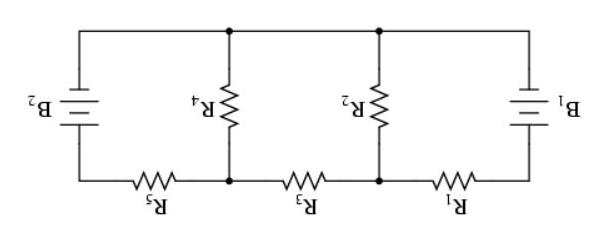Battery: (56, 72, 122, 141)
